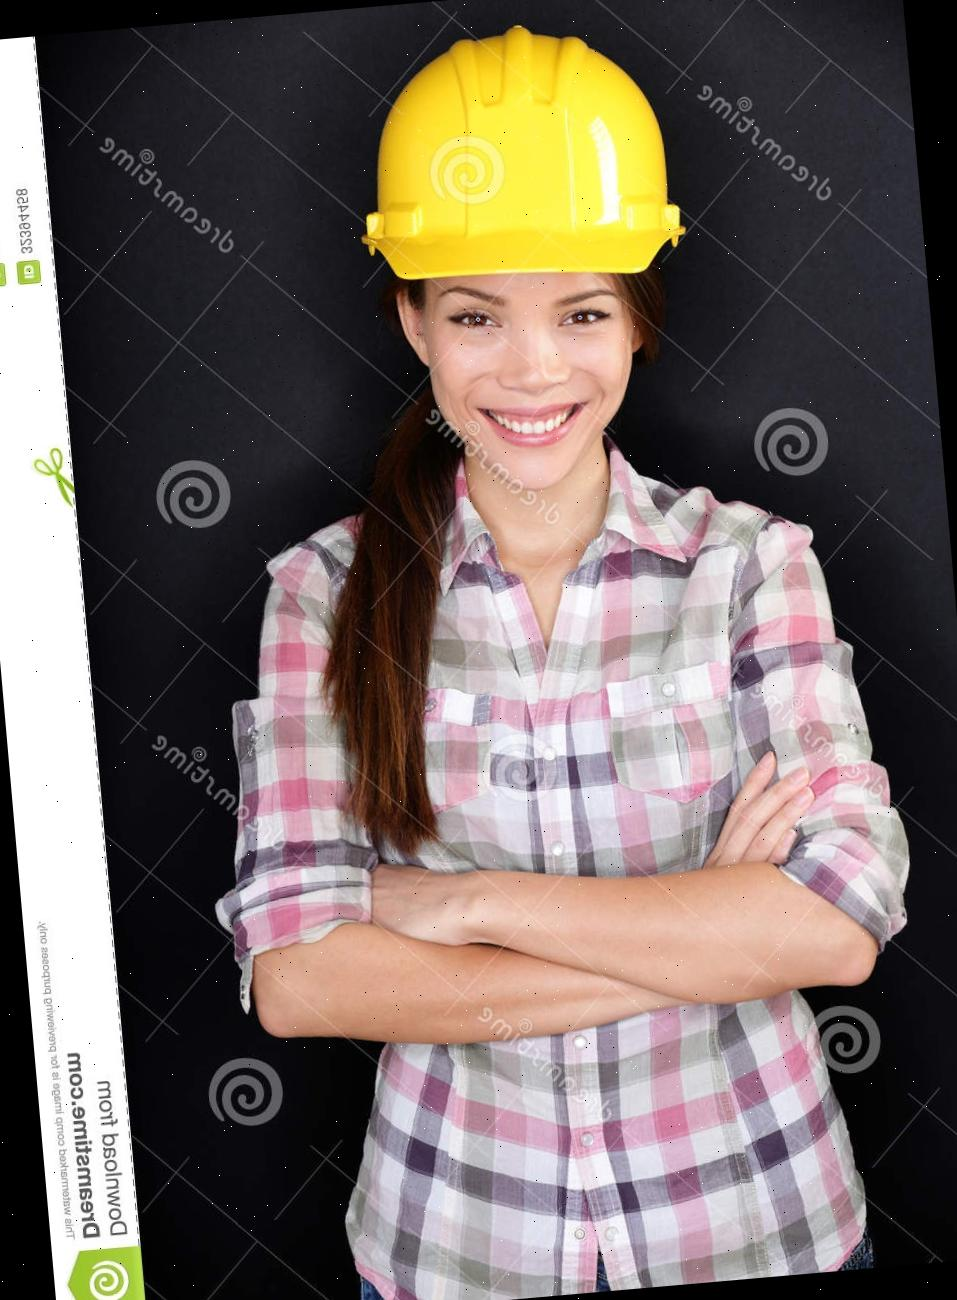helmet: (341, 0, 684, 307)
no_wear: (243, 497, 880, 1300)
